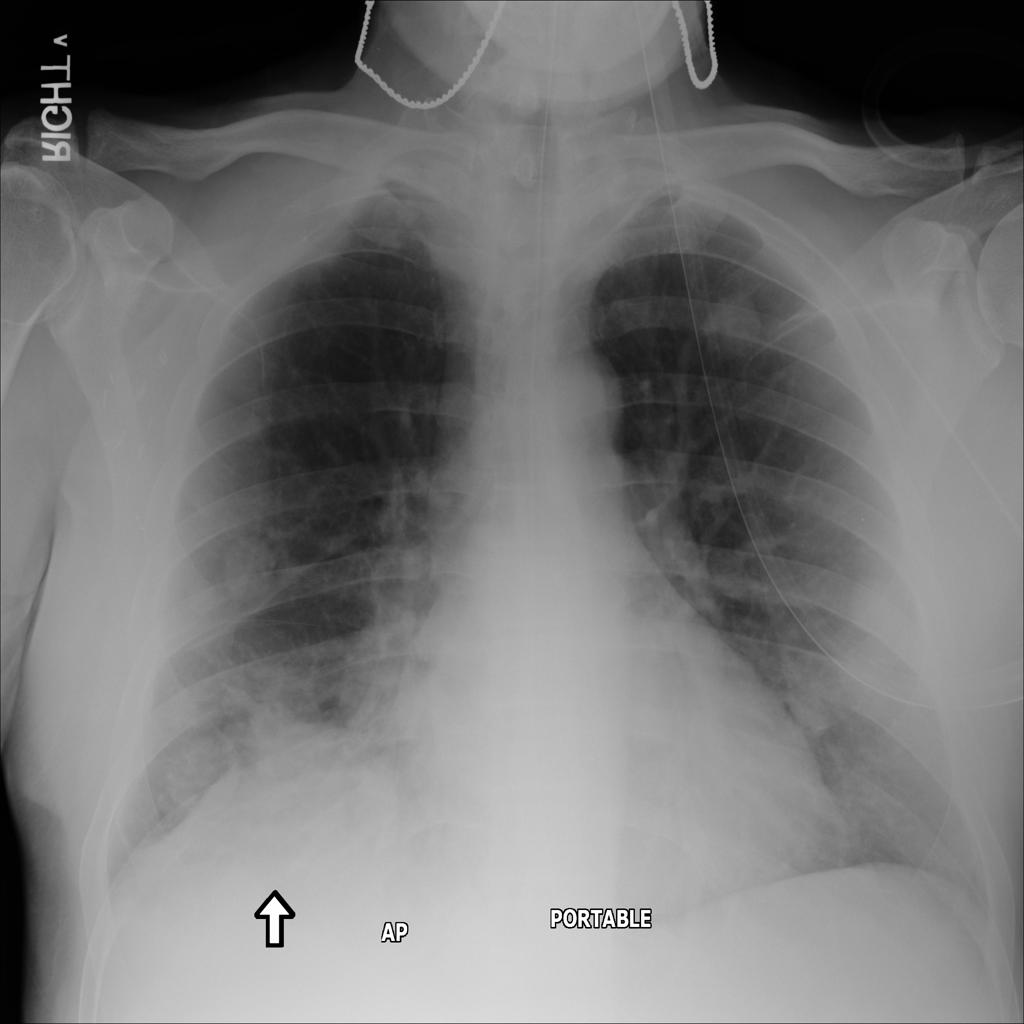nodule: (207, 649, 341, 785), (152, 716, 249, 827), (688, 270, 782, 375), (210, 527, 292, 613), (774, 668, 848, 743), (215, 386, 286, 459)
